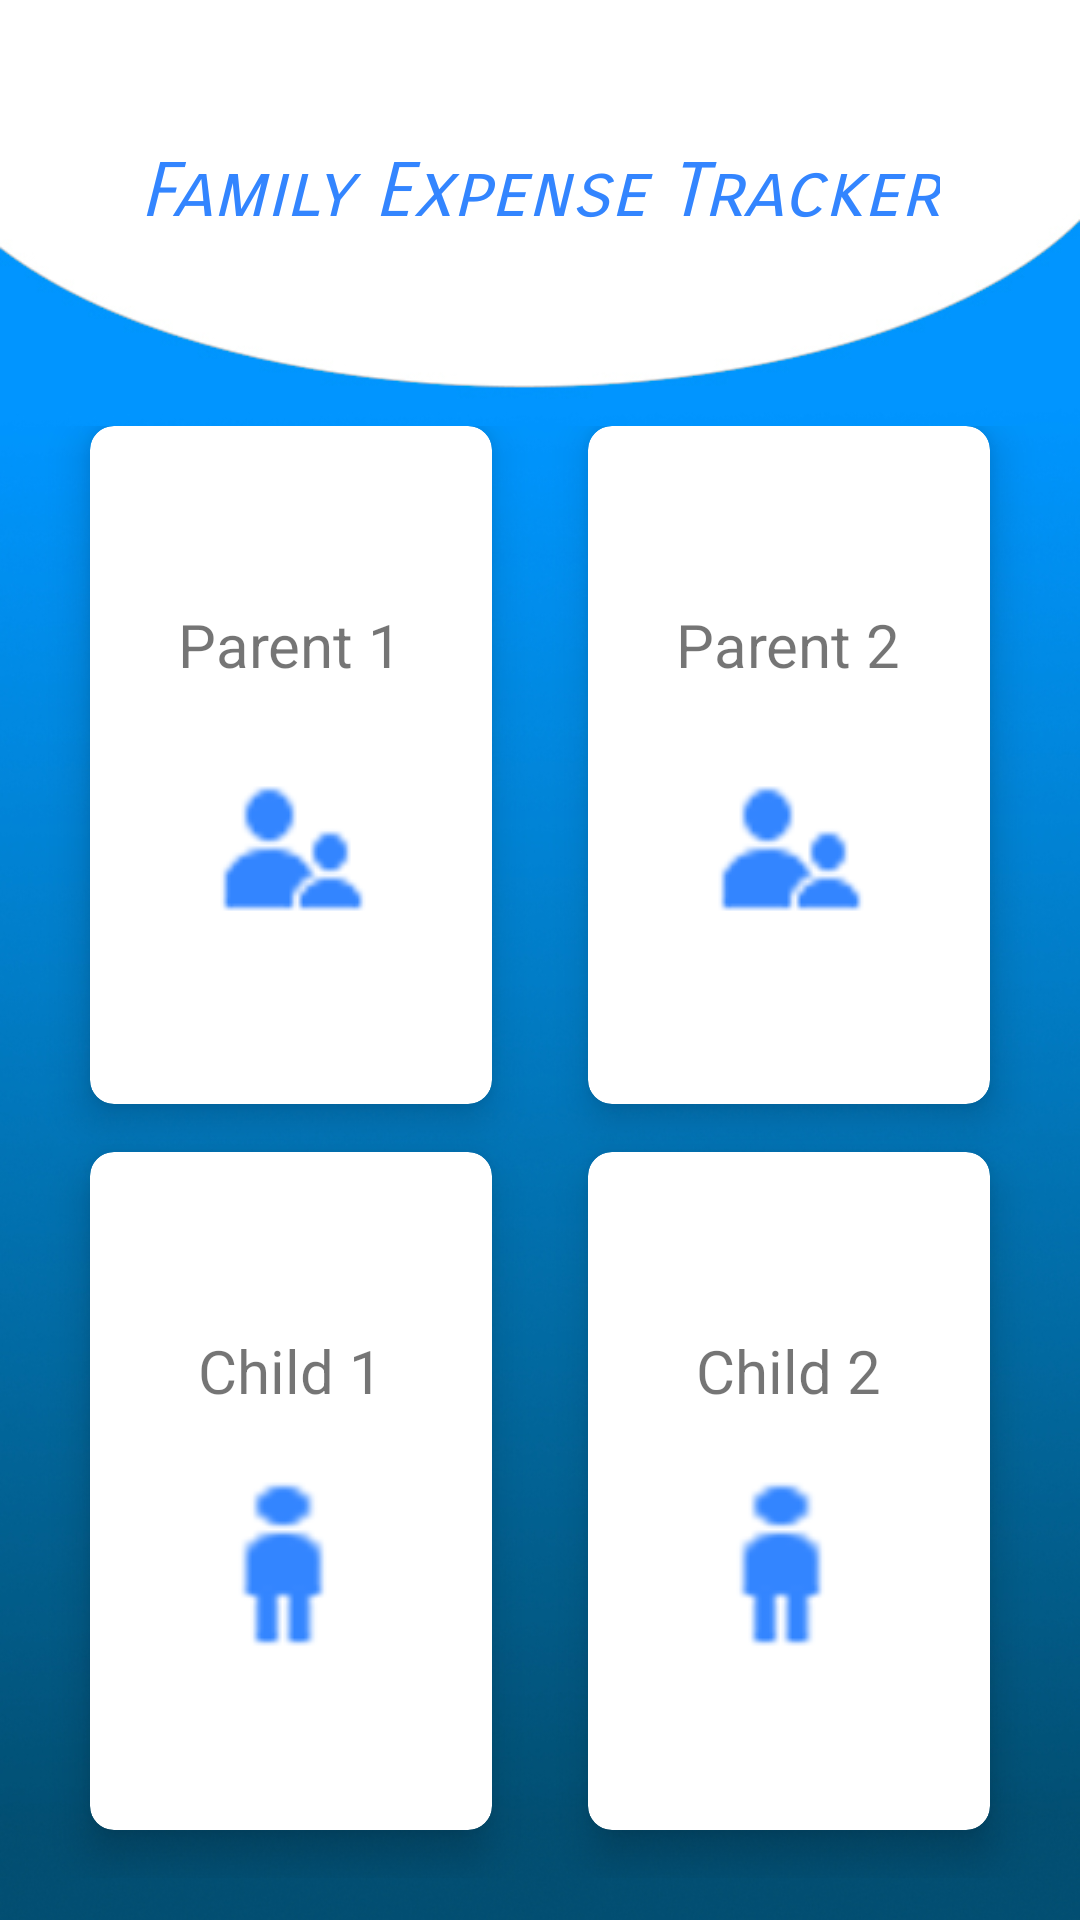

Icon click points for this 1080 x 1920 phone screenshot, format [x,y]:
guardian: [293,849], [791,849]
